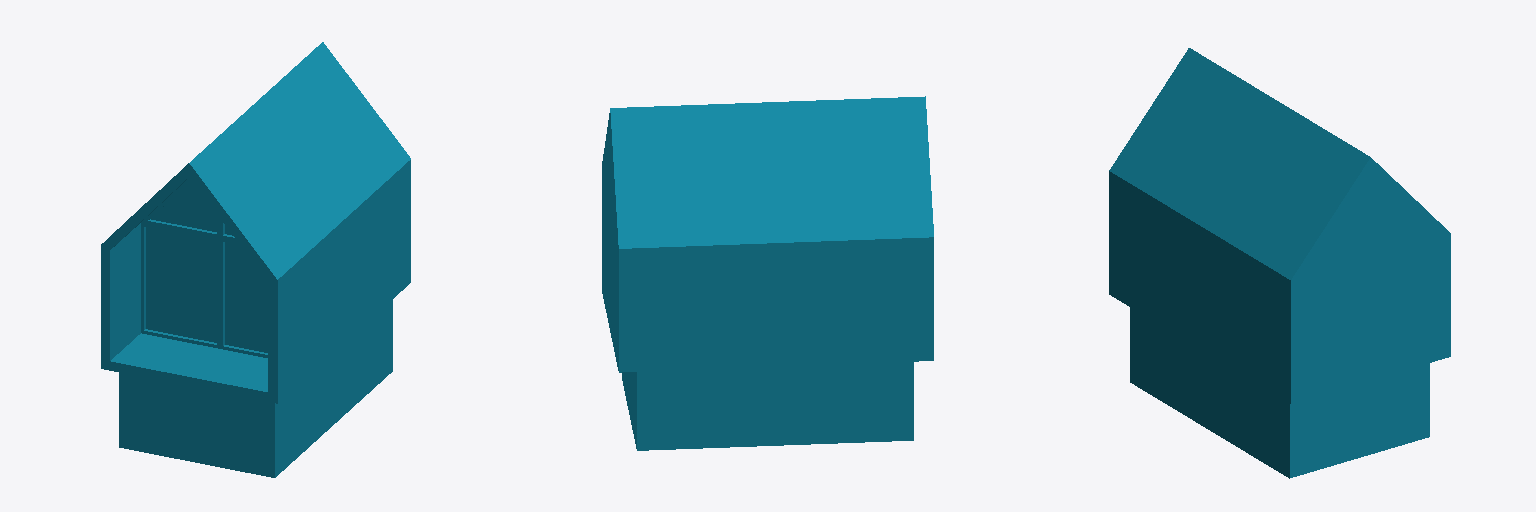
File: phrenderformer_ph01_house_00.obj
3 views of the same model, side by side, from view 1: azimuth 30°, elevation 25°; view 2: azimuth 150°, elevation 25°; view 3: azimuth 270°, elevation 25° (orthographic).
Visible parts, largest first — view 1: Box001; view 2: Box001; view 3: Box001.
Part boxes in pixels (x1,y1,x2,y2): Box001: (101,42,410,477); Box001: (602,96,933,450); Box001: (1109,48,1450,478).
Bounding box in the file's own units: 16.02 × 14.63 × 14.74.